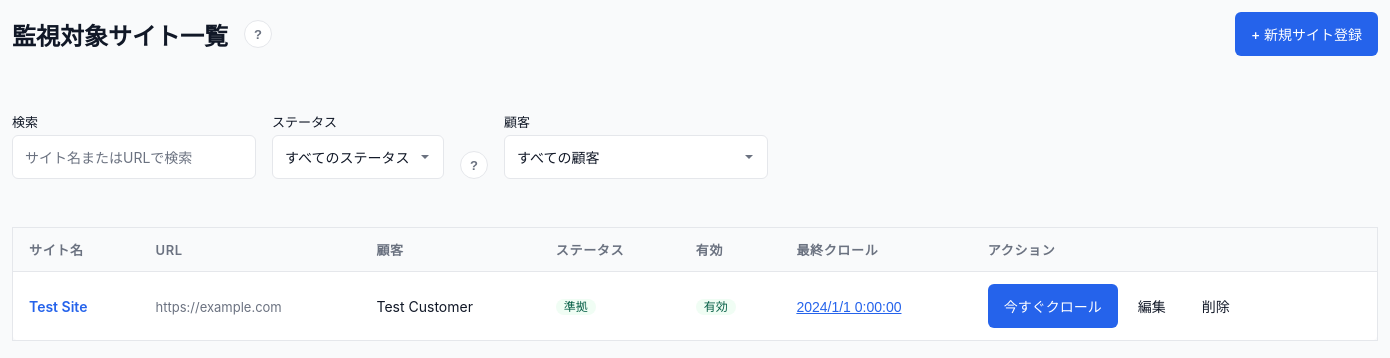
Test: Sites - Crawl Button › should show spinner while crawling
What coordinates should you click on to do the following:
click the button "今すぐクロール"
I would click on:
 (1053, 306)
Its box is 988,284 -> 1118,328.
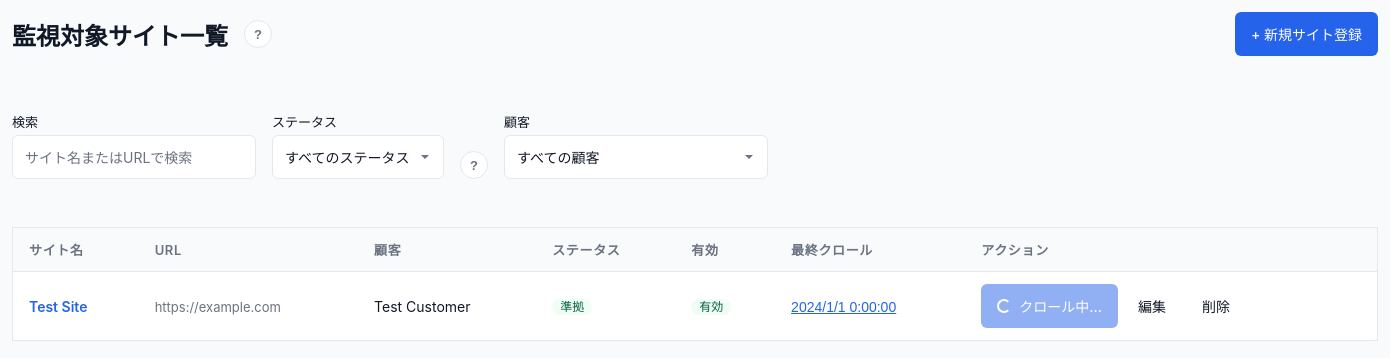
Expected: the button "クロール中..." is shown, 981,284 -> 1118,328
